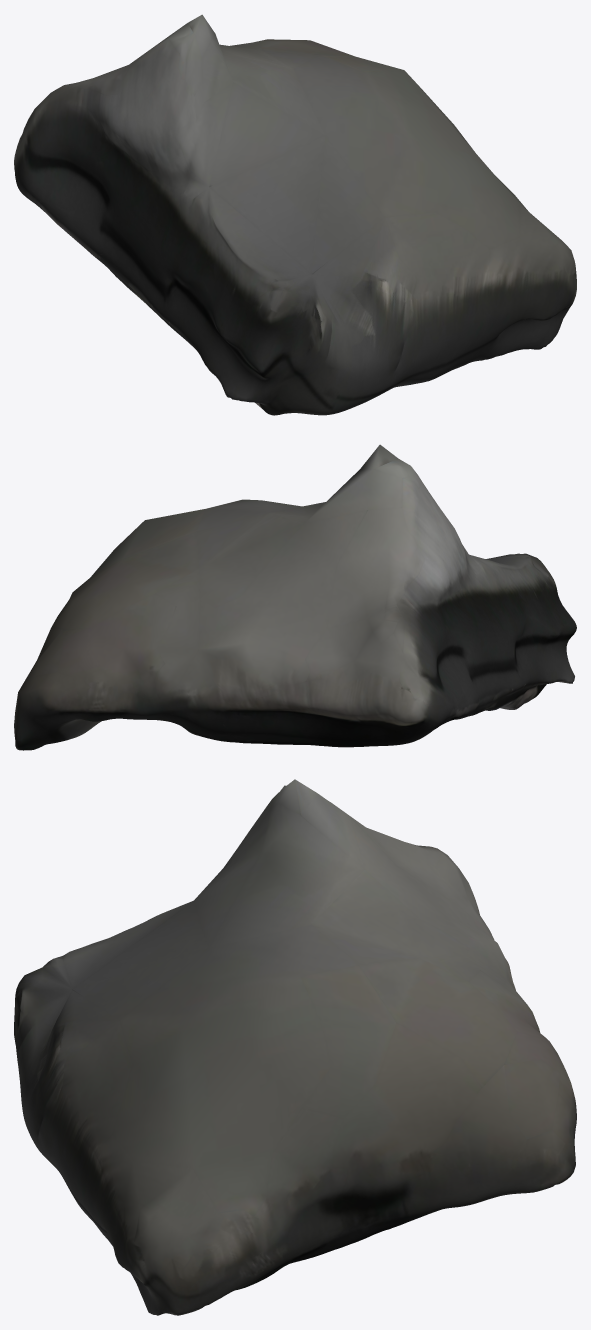
3 renders of one model, top to bottom at view 1: azimuth 30°, elevation 25°; view 2: azimuth 150°, elevation 25°; view 3: azimuth 270°, elevation 25°, orthographic. The views are drawn at different scales.
Bounding box in the file's own units: 0.3814 × 0.2968 × 0.392.
Materials: 1 (1 with a texture image).
